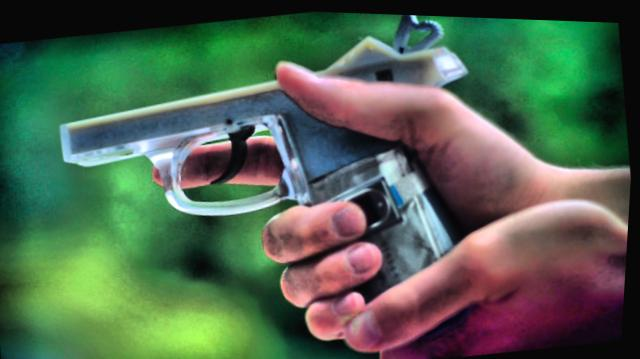pistol: (31, 1, 516, 359)
